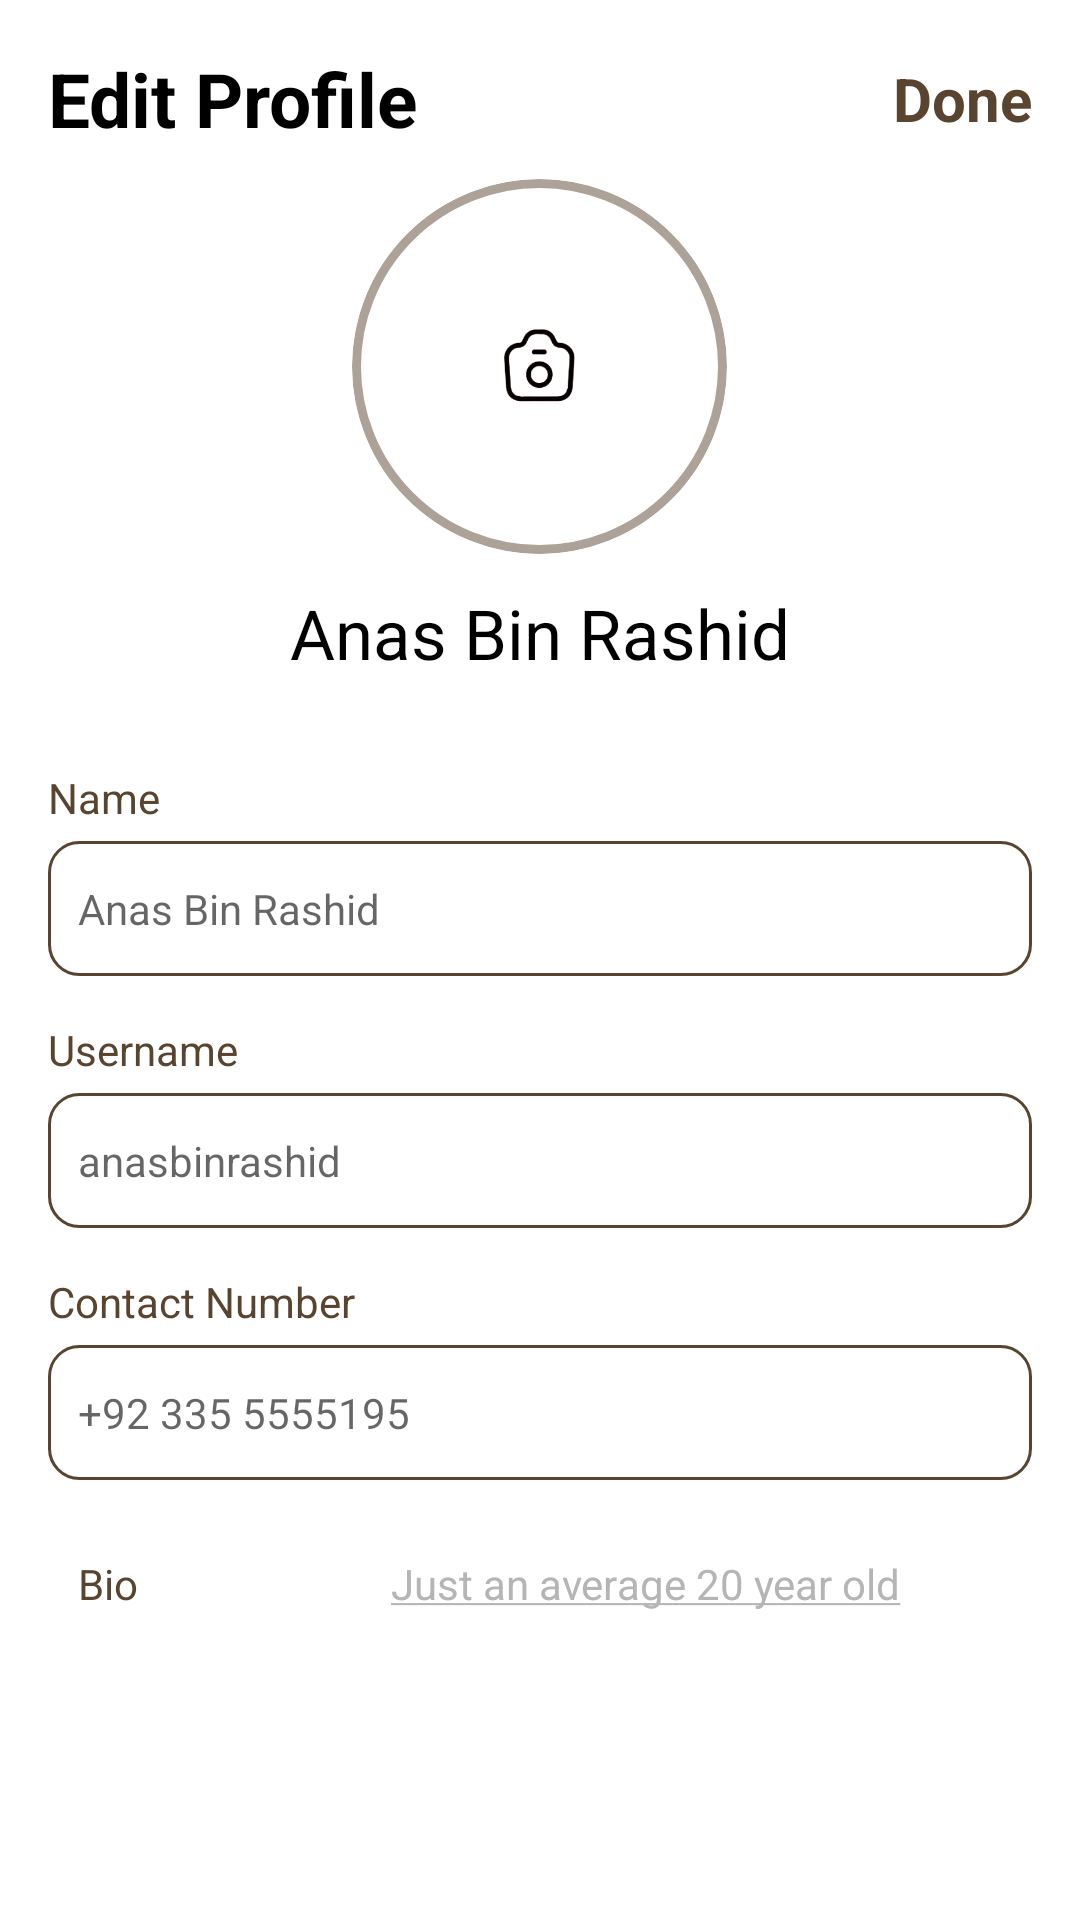

Screen size 1080×1920. Icon name, then its center in pixels as (x=x, y=y):
camera: (x=539, y=365)
